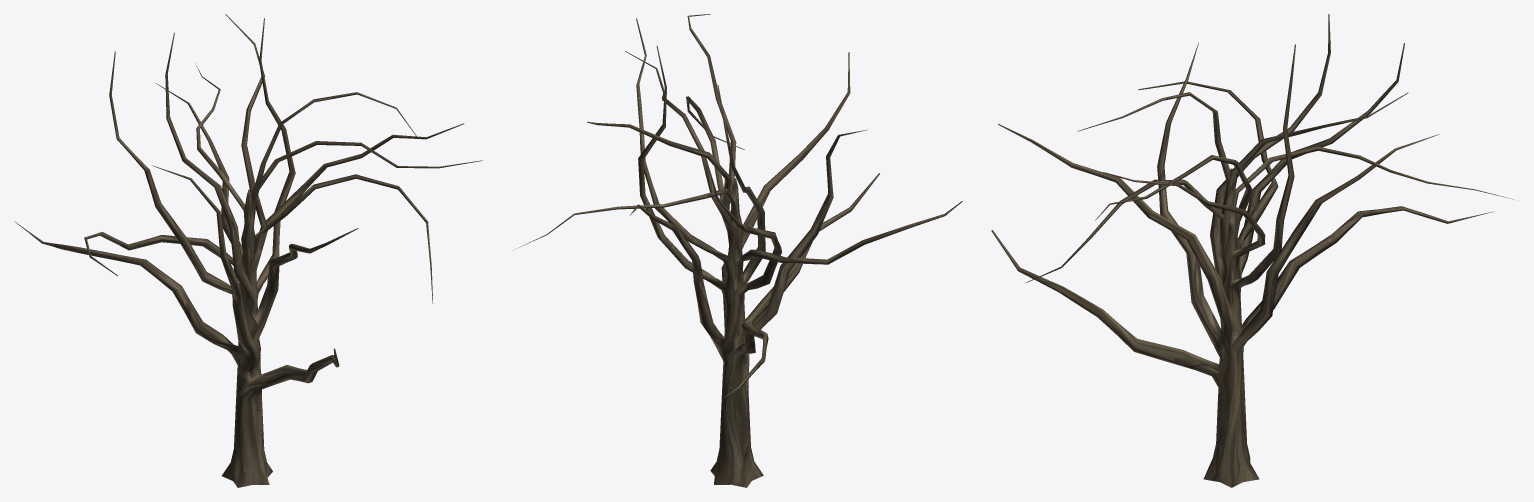
Rendered from tree-03.fbx.
3 renders of one model, left to right at view 1: azimuth 30°, elevation 25°; view 2: azimuth 150°, elevation 25°; view 3: azimuth 270°, elevation 25°, orthographic. The views are drawn at different scales.
Parts seen in each view (by area): view 1: tree_tree.054; view 2: tree_tree.054; view 3: tree_tree.054.
Boxes of the visible parts, x1,y1,x2,y2 form: tree_tree.054: (14, 14, 482, 487); tree_tree.054: (514, 14, 962, 487); tree_tree.054: (991, 14, 1513, 487).
Bounding box in the file's own units: 4.73 × 5.49 × 5.79.
